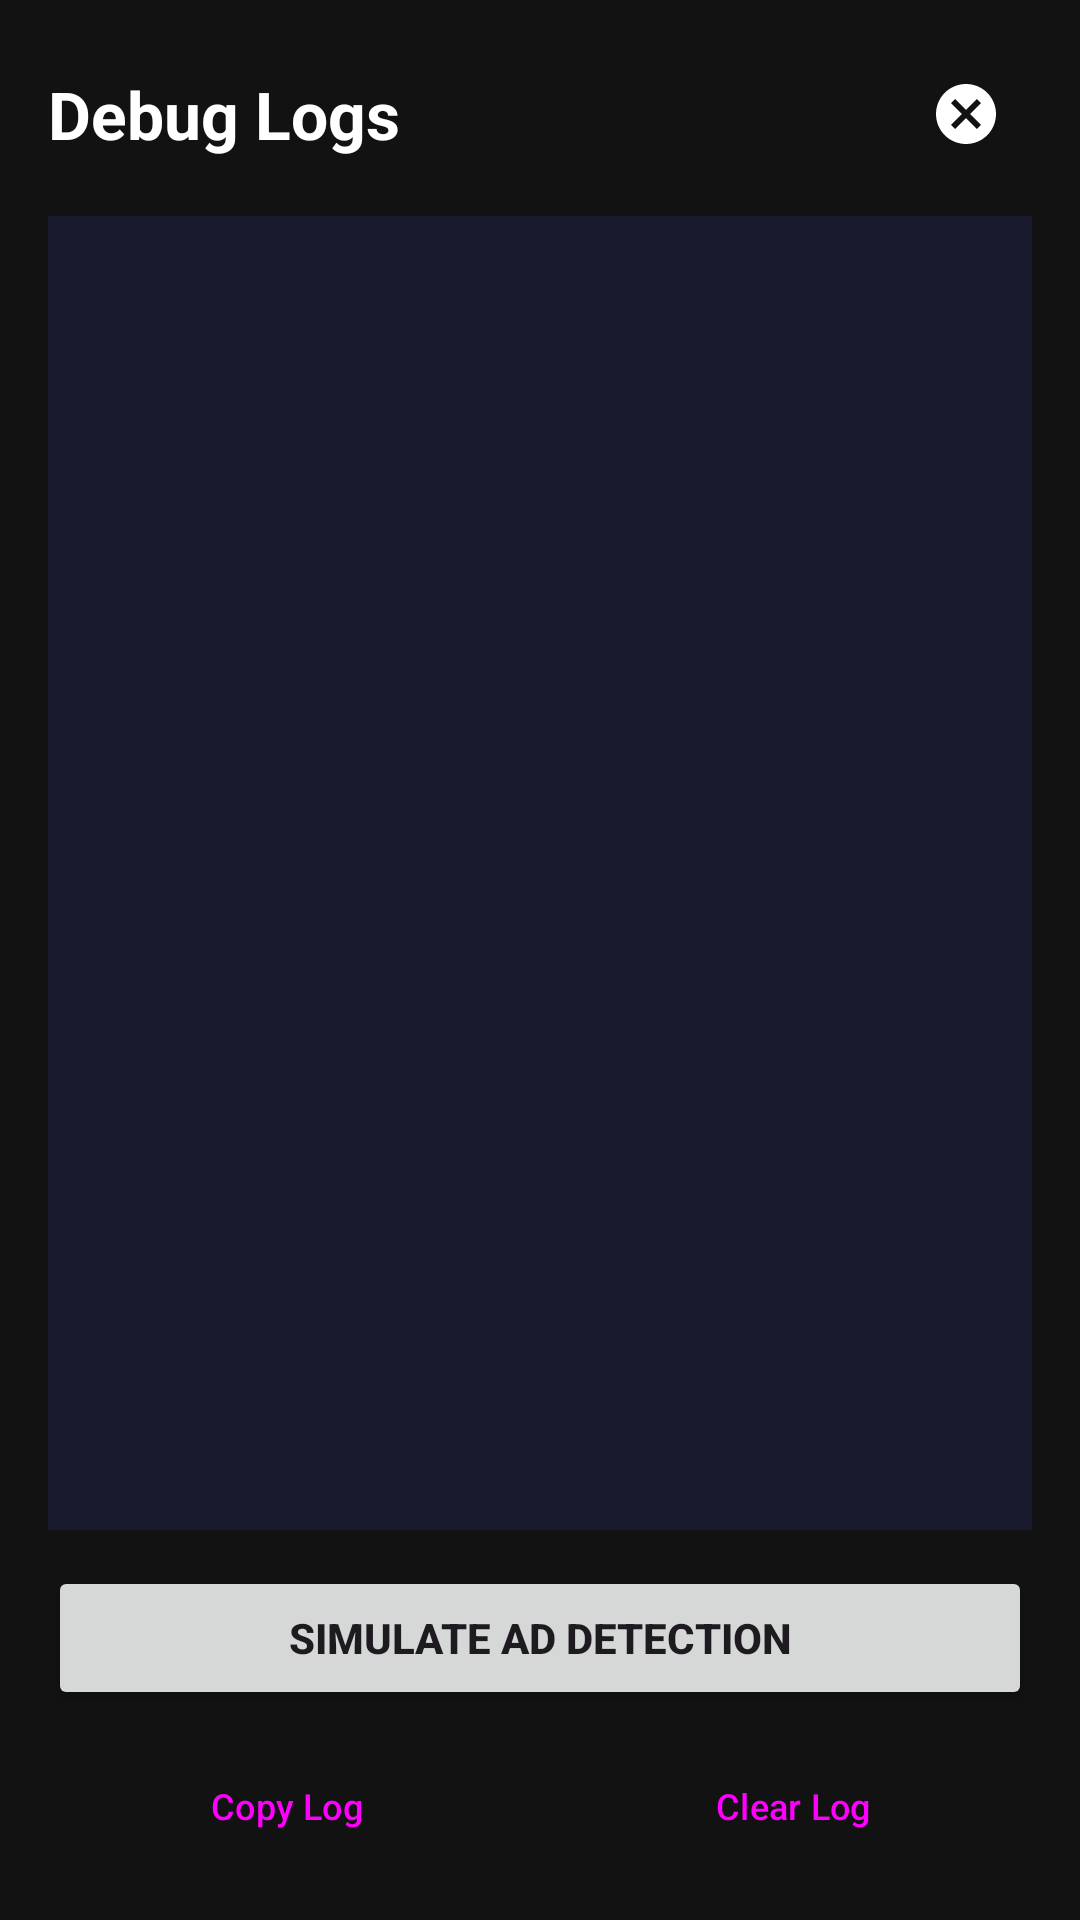

Screen size 1080px x 1920px. Icon name, then its box in pixels as (x1, y1, x2, y2):
Close: (936, 84, 996, 144)
